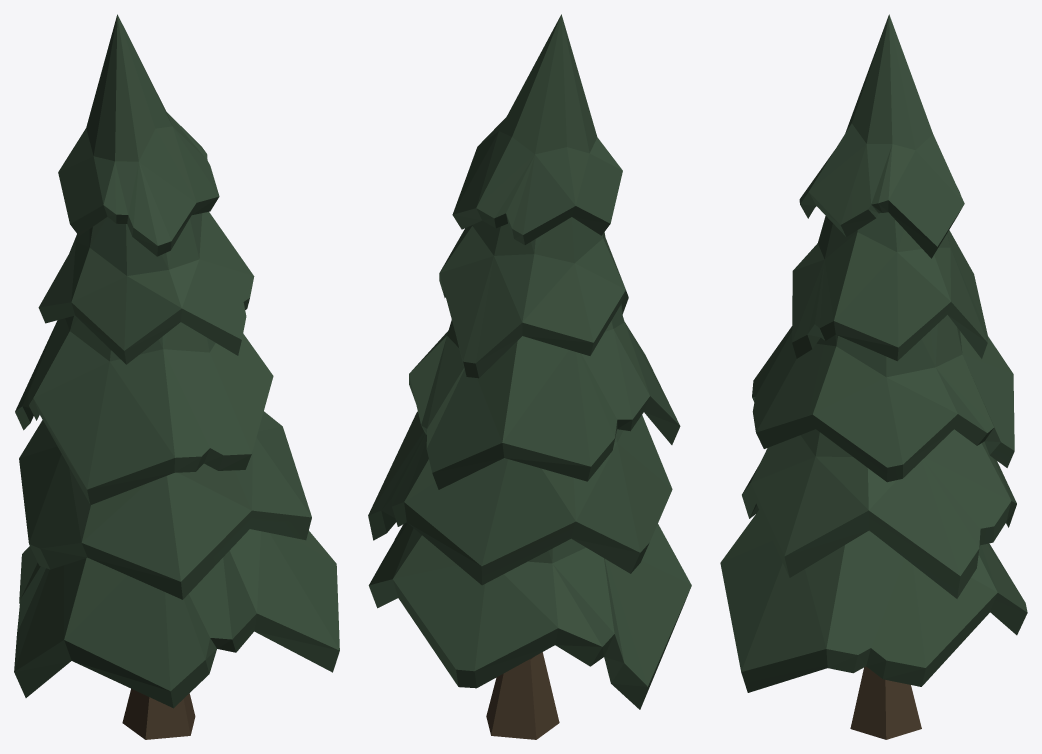
The model's file is SM_Env_TreePine_03.gltf.
The picture shows the model from 3 angles, left to right: view 1: azimuth 30°, elevation 25°; view 2: azimuth 150°, elevation 25°; view 3: azimuth 270°, elevation 25°; orthographic projection. The views are drawn at different scales.
Parts seen in each view (by area): view 1: SM_Env_TreePine_03; view 2: SM_Env_TreePine_03; view 3: SM_Env_TreePine_03.
Boxes of the visible parts, x1,y1,x2,y2 form: SM_Env_TreePine_03: [14, 14, 339, 739]; SM_Env_TreePine_03: [368, 14, 691, 739]; SM_Env_TreePine_03: [720, 14, 1027, 739].
Bounding box in the file's own units: 3.43 × 8.4 × 3.39.
1 material, 1 textured.
